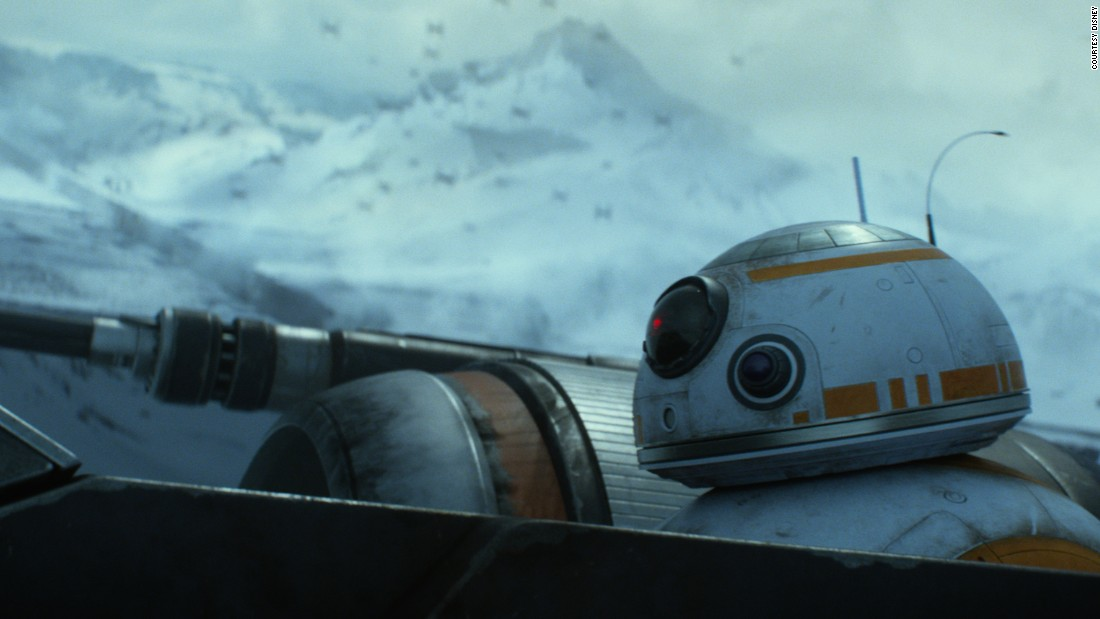bb8: (632, 219, 1100, 572)
